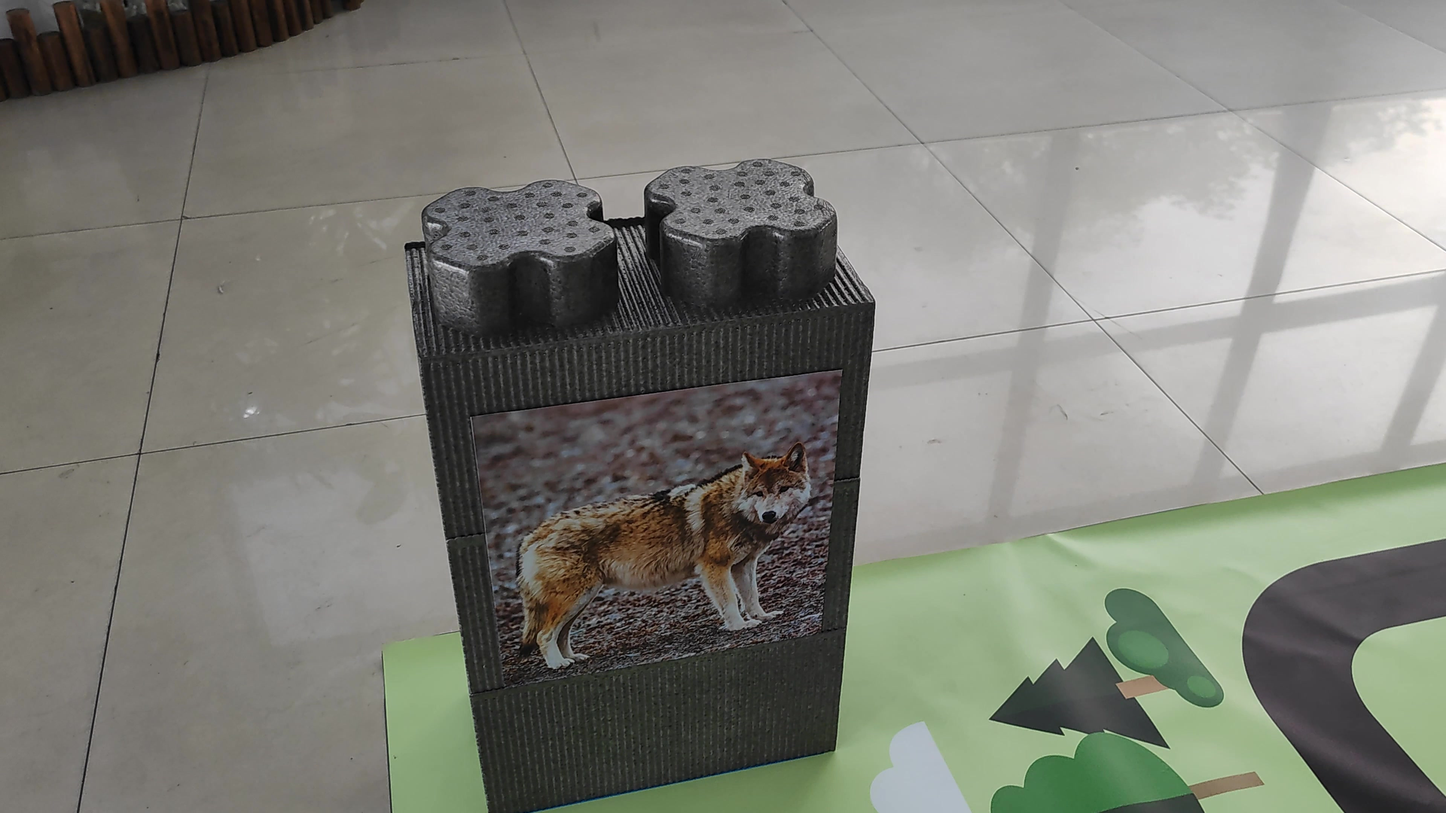wolf: (480, 435, 837, 690)
